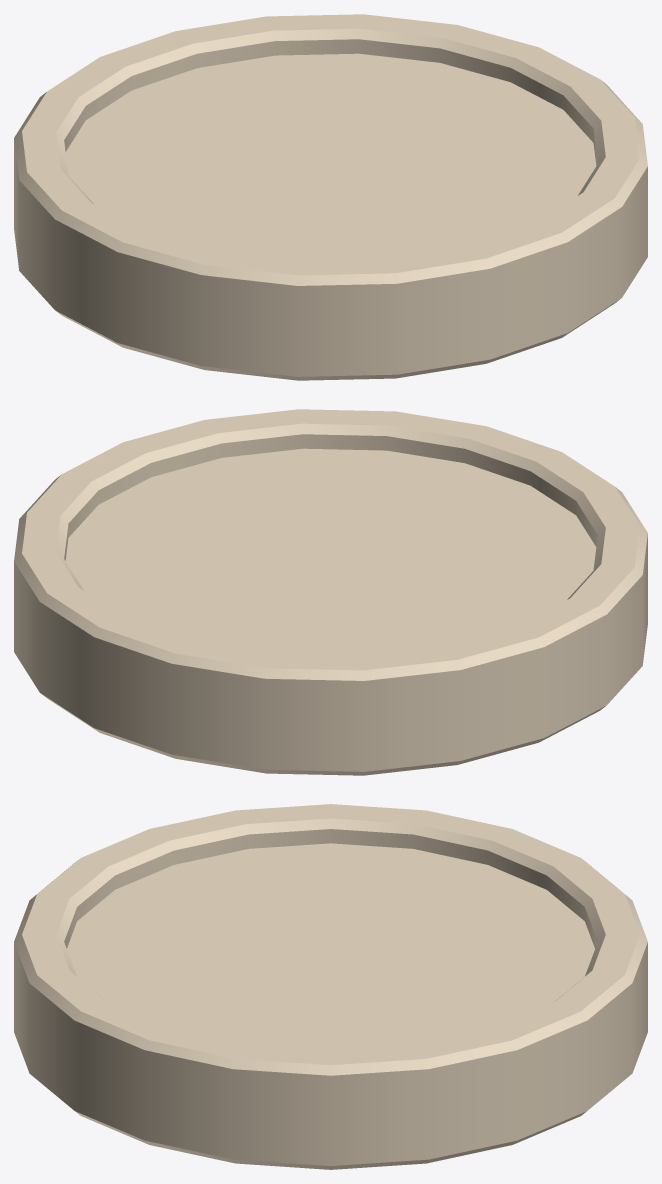
The model's file is lowpolycoin.fbx.
3 renders of one model, top to bottom at view 1: azimuth 30°, elevation 25°; view 2: azimuth 150°, elevation 25°; view 3: azimuth 270°, elevation 25°, orthographic.
Visible parts, largest first — view 1: lowpocoin; view 2: lowpocoin; view 3: lowpocoin.
Boxes of the visible parts, bbox=[...] form: lowpocoin: bbox=[14, 14, 647, 380]; lowpocoin: bbox=[14, 409, 647, 775]; lowpocoin: bbox=[14, 804, 647, 1169].
Bounding box in the file's own units: 200 × 36.44 × 200.
